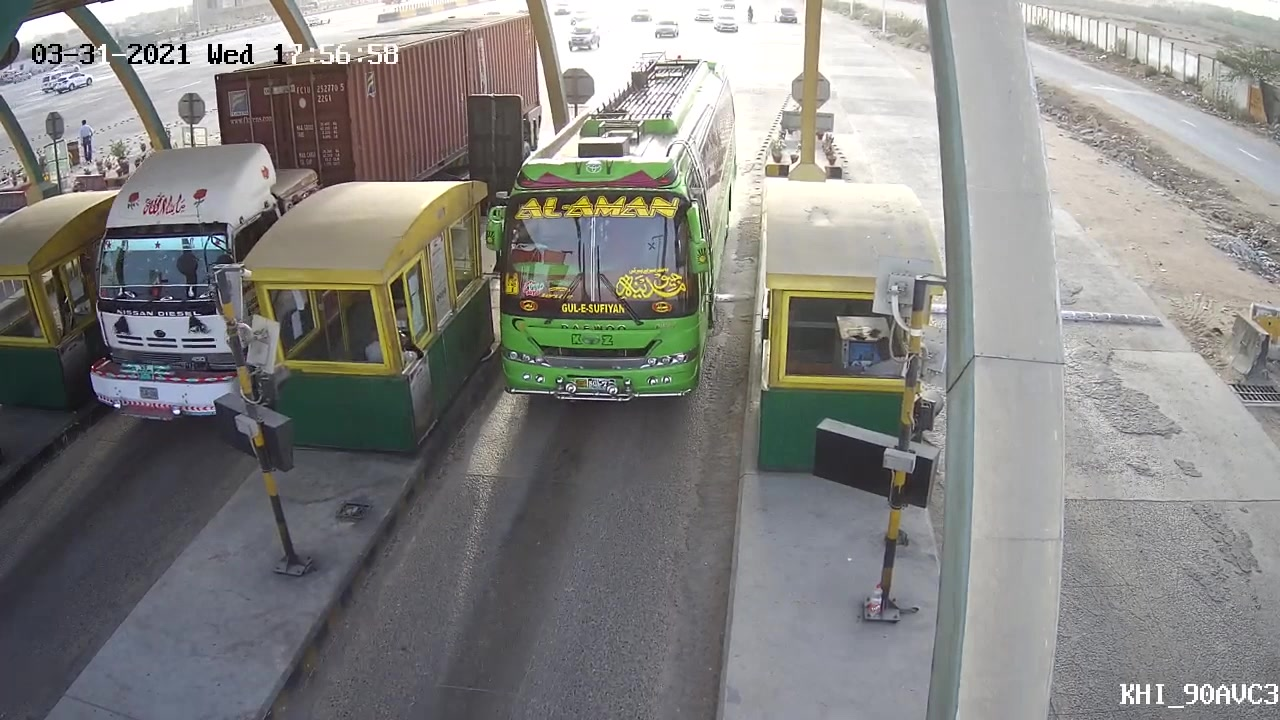F4: (487, 54, 744, 405)
